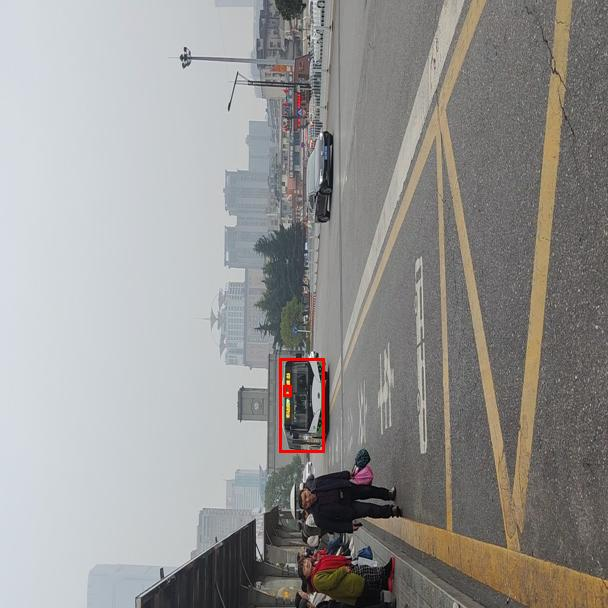bus: (279, 358, 324, 452)
screen: (283, 385, 291, 396)
